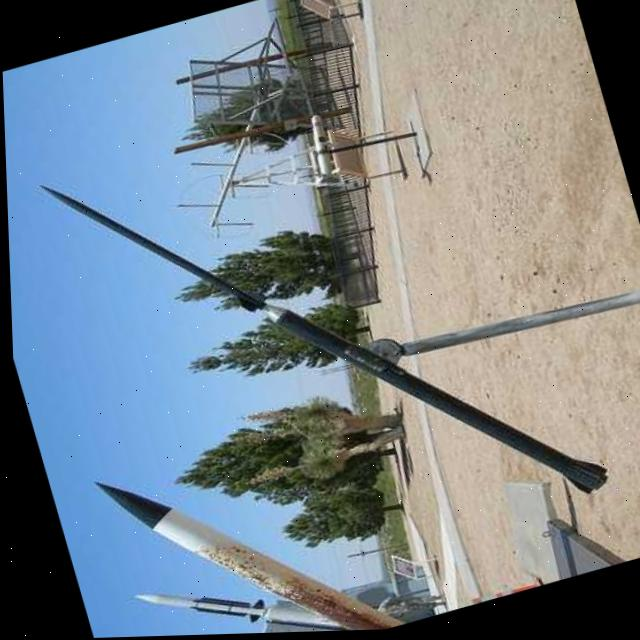missile: (31, 55, 616, 614), (77, 406, 412, 638), (120, 557, 267, 638)
